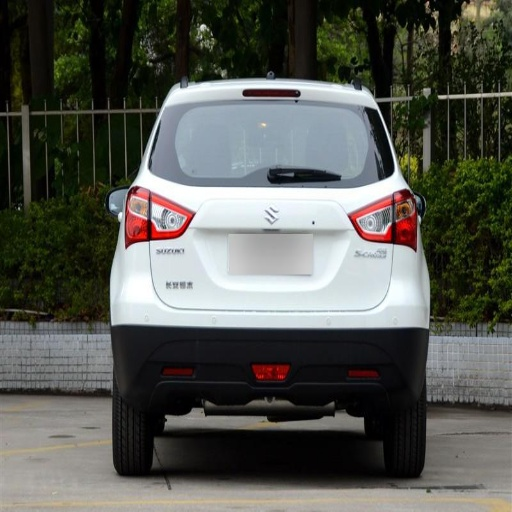back_bumper: (108, 244, 426, 409)
trunk: (132, 179, 400, 311)
